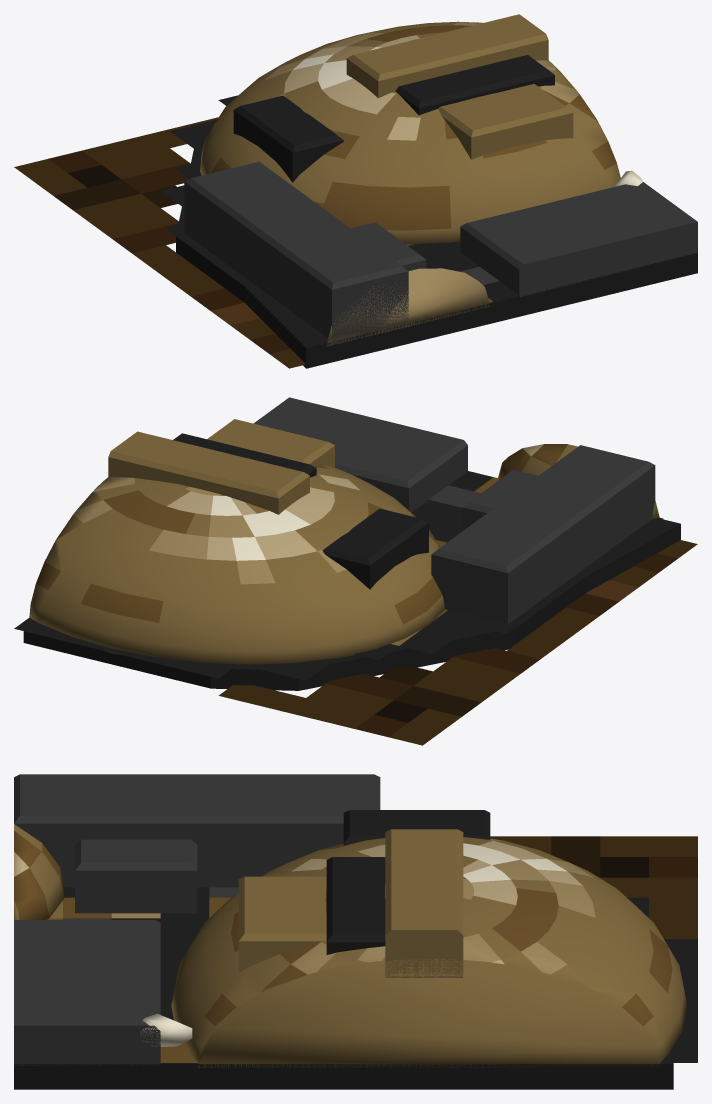
Rendered from newsh2-77.glb.
3 renders of one model, top to bottom at view 1: azimuth 30°, elevation 25°; view 2: azimuth 150°, elevation 25°; view 3: azimuth 270°, elevation 25°, orthographic. The views are drawn at different scales.
Visible parts, largest first — view 1: newsh2-77; view 2: newsh2-77; view 3: newsh2-77.
Part boxes in pixels (x1,y1,x2,y2): newsh2-77: (14, 14, 697, 368); newsh2-77: (14, 397, 697, 745); newsh2-77: (14, 774, 697, 1089).
Bounding box in the file's own units: 2 × 0.6 × 2.33.
